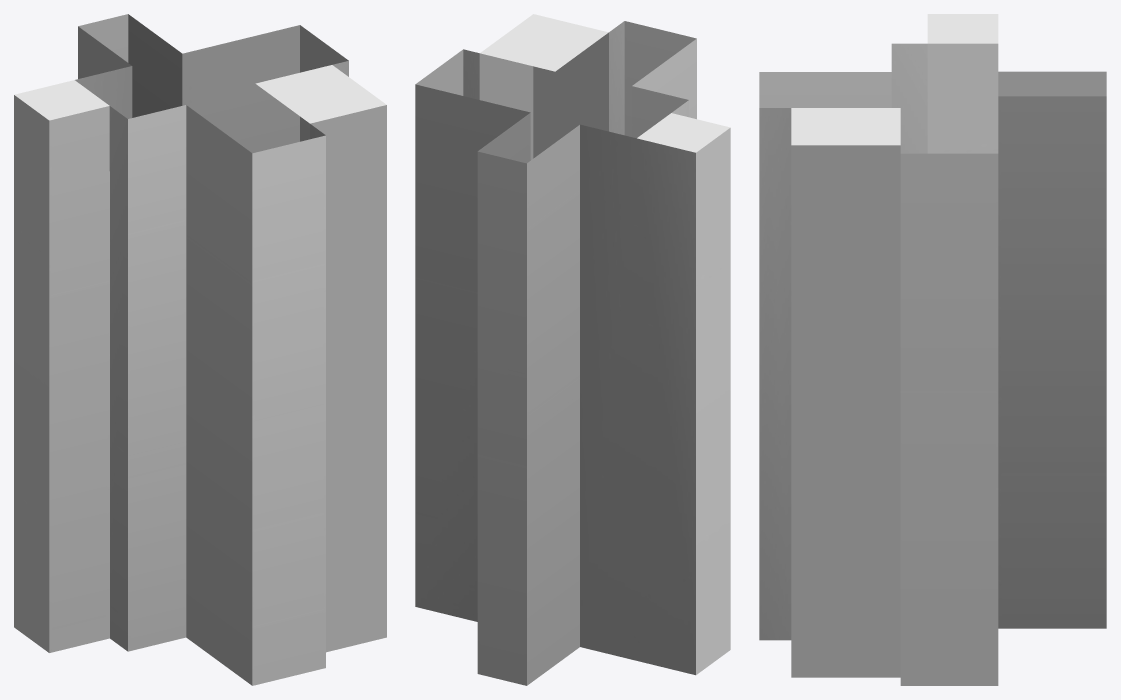
Rendered from etageV1.1No3.dae.
The picture shows the model from 3 angles, left to right: view 1: azimuth 30°, elevation 25°; view 2: azimuth 150°, elevation 25°; view 3: azimuth 270°, elevation 25°; orthographic projection.
Visible parts, largest first — view 1: Mesh_004; view 2: Mesh_004; view 3: Mesh_004.
Boxes of the visible parts, left/top/right/bottom form: Mesh_004: left=14, top=14, right=386, bottom=685; Mesh_004: left=415, top=14, right=730, bottom=685; Mesh_004: left=759, top=14, right=1106, bottom=685.
Bounding box in the file's own units: 9.3 × 9.79 × 16.54.
Materials: 3 (3 with a texture image).
